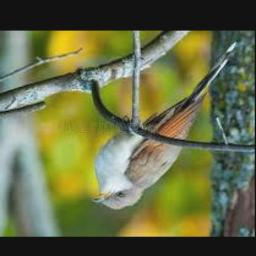Cuckoo: (92, 43, 239, 210)
